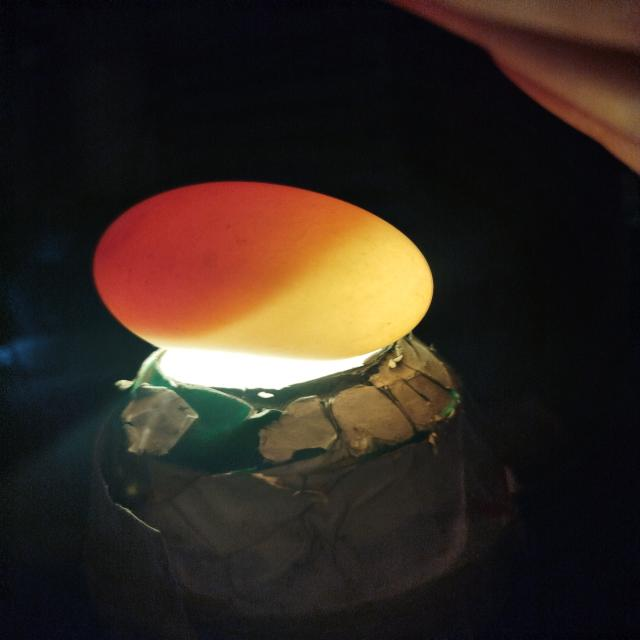Gema Quebrada: (93, 180, 378, 341)
